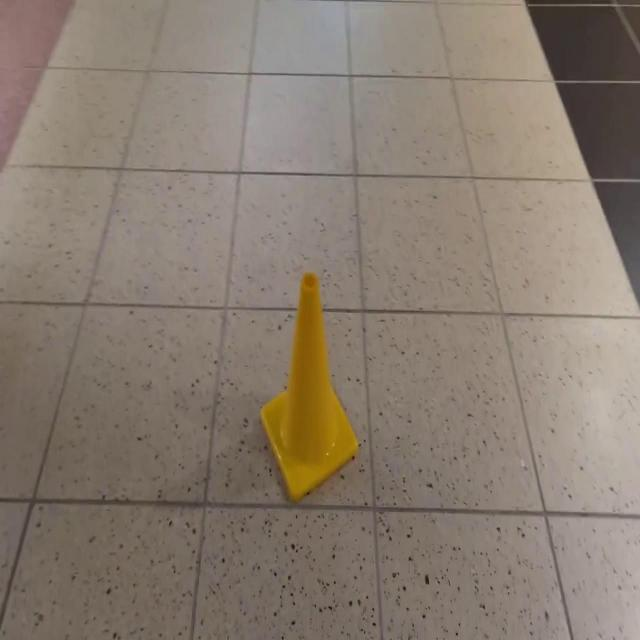frc_cone: (259, 272, 359, 499)
